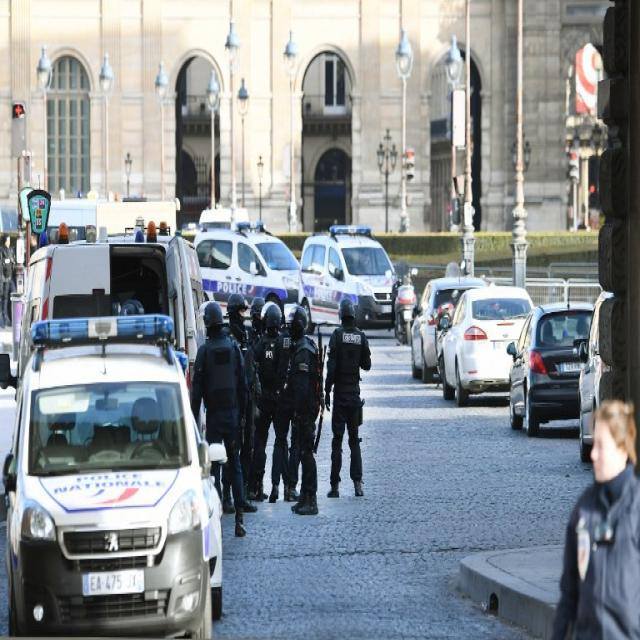body: (548, 396, 640, 639), (190, 300, 248, 540), (323, 297, 372, 499), (278, 305, 324, 517), (248, 302, 290, 503), (268, 305, 304, 504), (222, 292, 252, 361), (0, 232, 18, 328), (248, 296, 267, 336), (540, 318, 560, 346), (29, 229, 38, 267), (588, 210, 594, 232)
